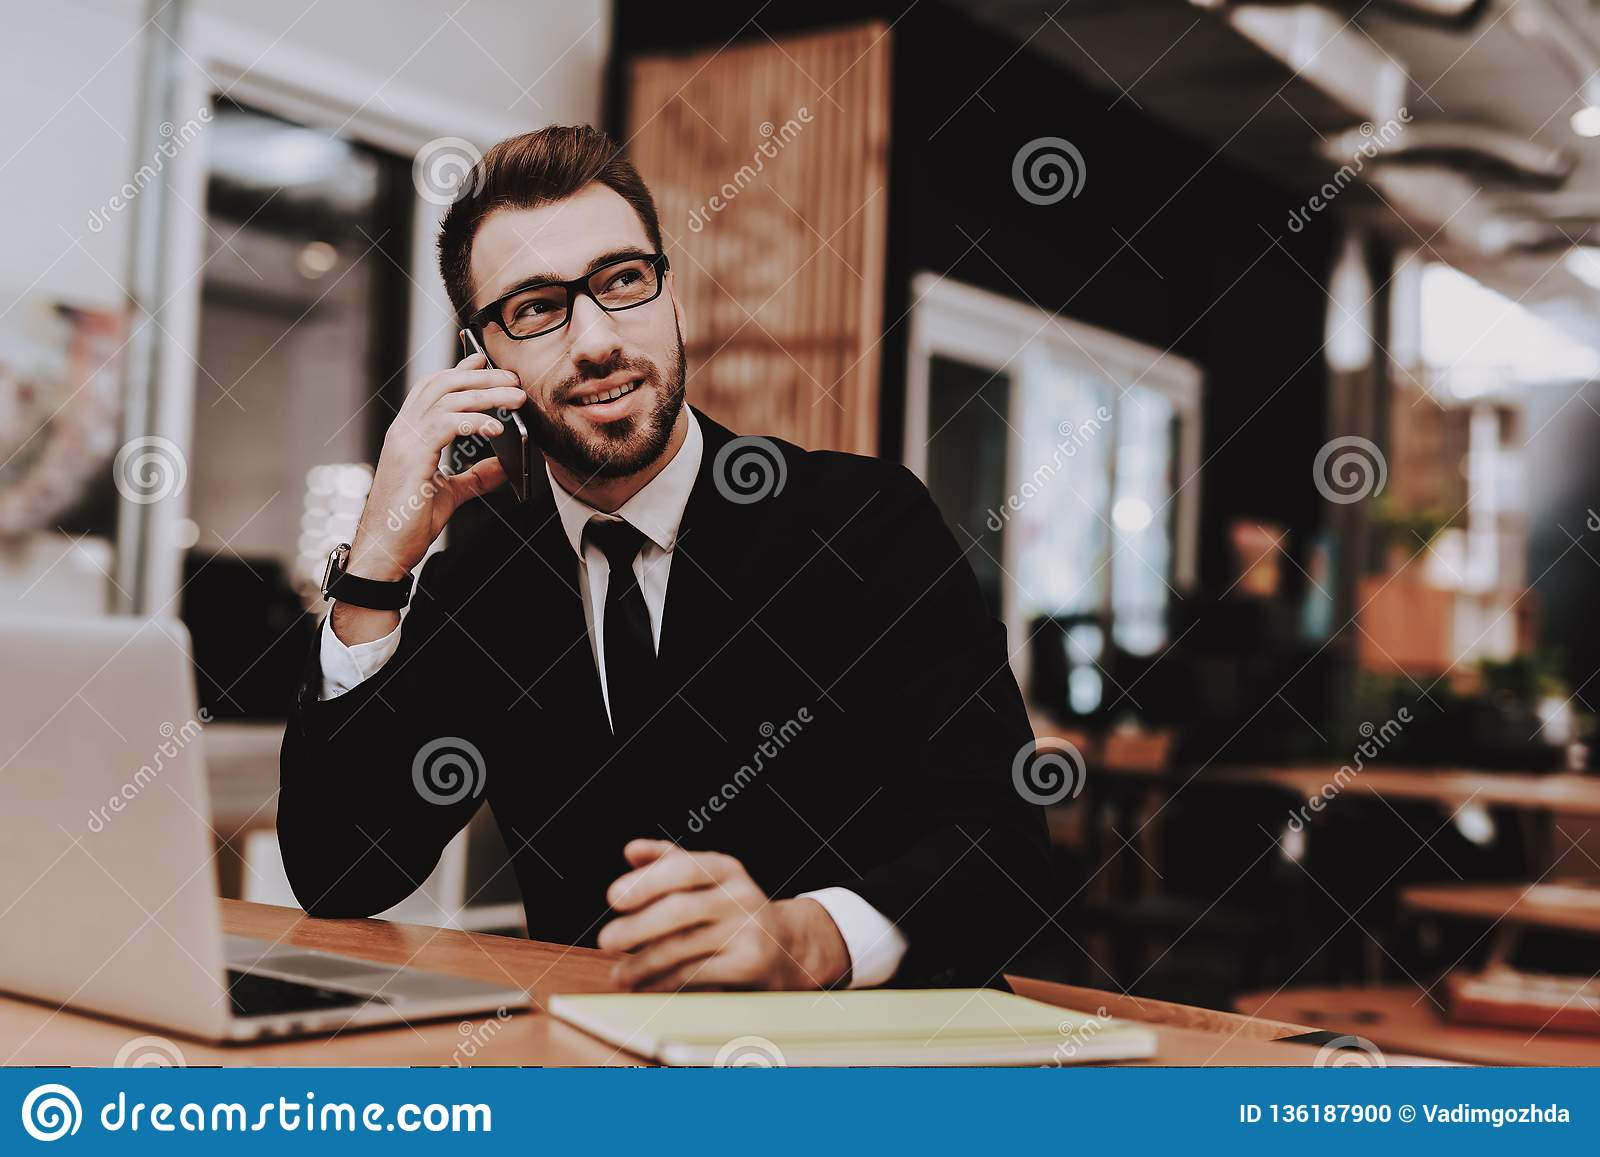phone: (451, 319, 537, 508)
talk: (365, 242, 670, 556)
